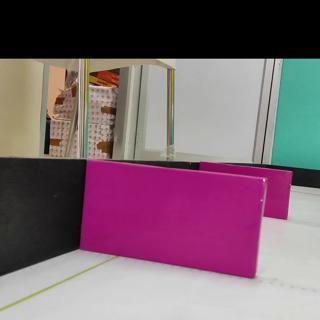xparking: (80, 160, 266, 278), (264, 169, 292, 220)
